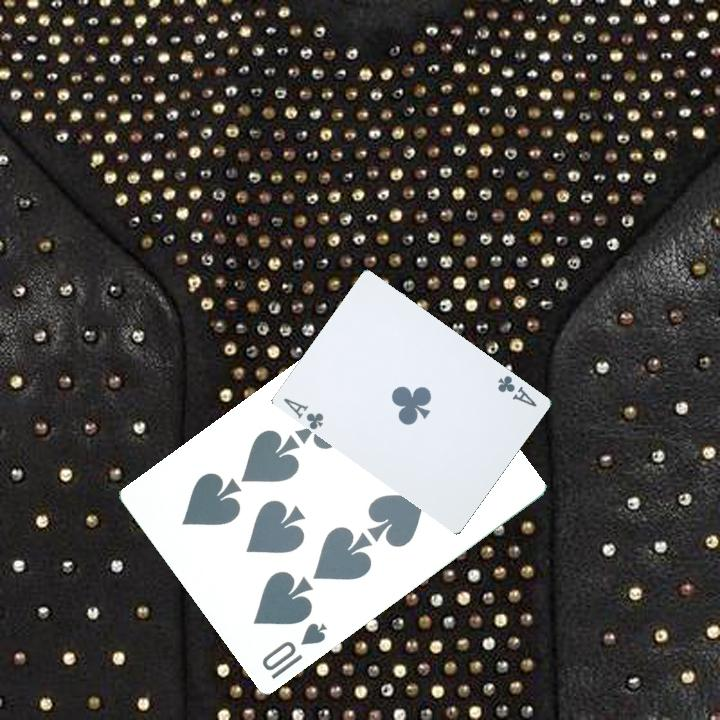10s: (257, 618, 330, 682)
Ac: (279, 394, 326, 433), (493, 371, 539, 410)
